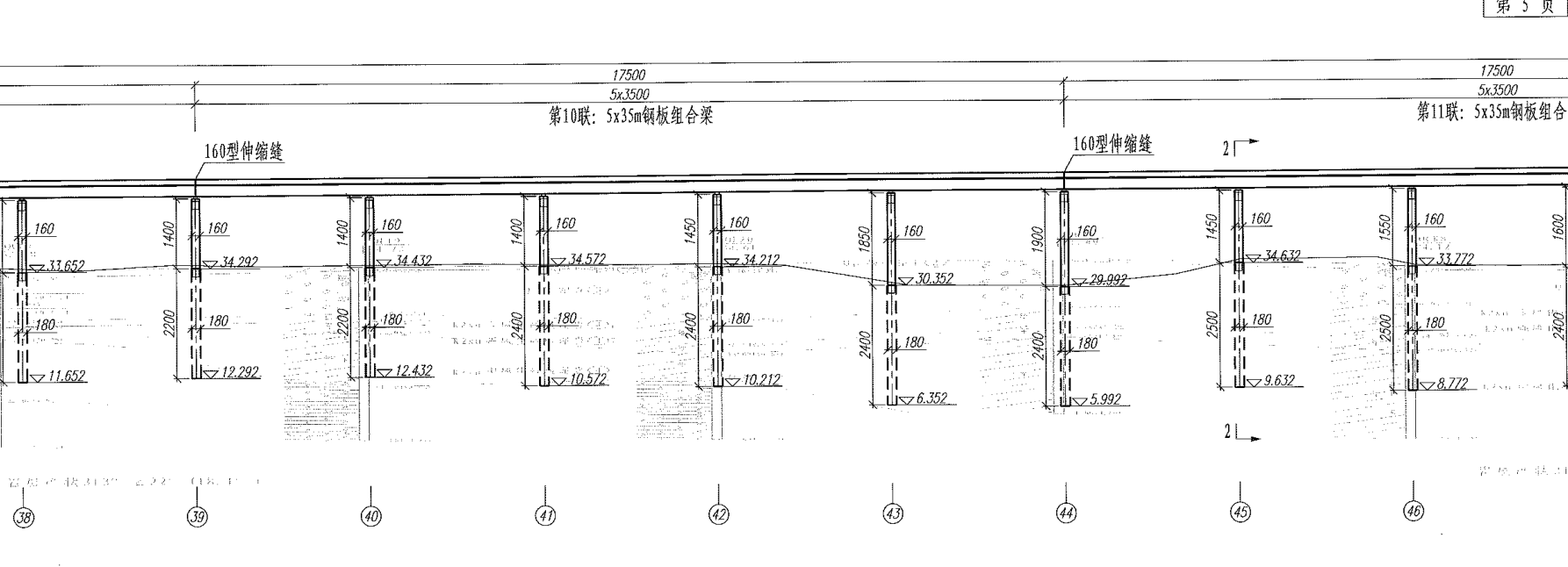B: (185, 68, 1074, 87)
C: (698, 184, 798, 533), (1045, 183, 1143, 535), (872, 185, 972, 529), (526, 188, 623, 529), (3, 190, 99, 531), (1221, 181, 1316, 524), (333, 190, 428, 533), (1393, 180, 1486, 527), (179, 190, 265, 537), (1047, 183, 1130, 407)
